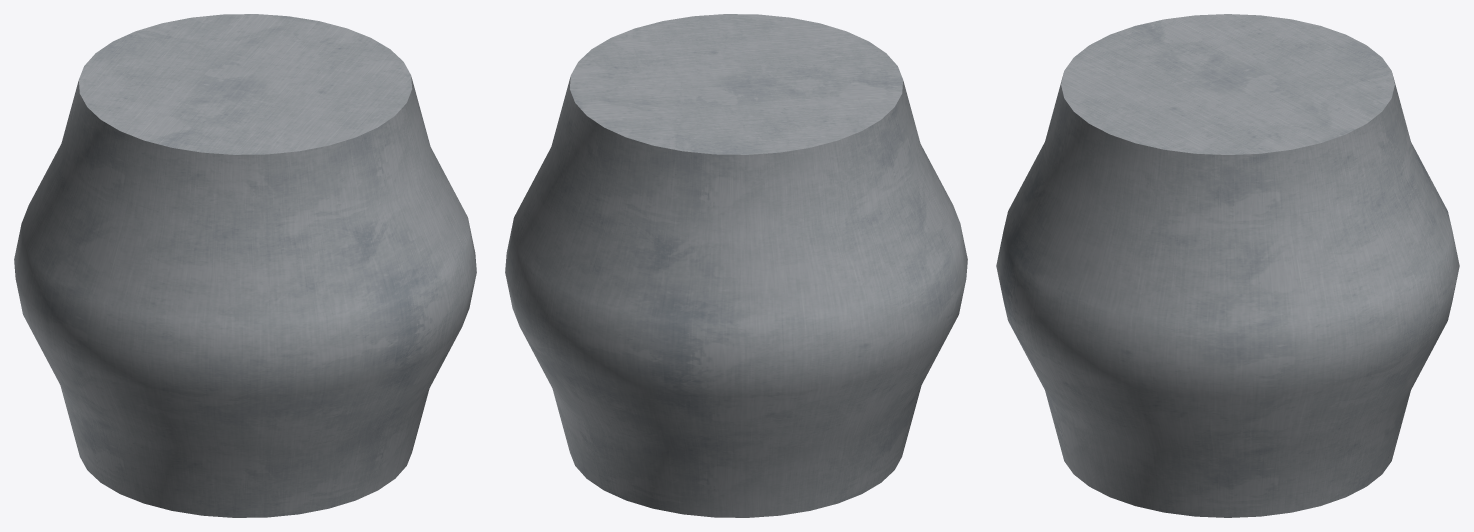
Rendered from spceimen.fbx.
The picture shows the model from 3 angles, left to right: view 1: azimuth 30°, elevation 25°; view 2: azimuth 150°, elevation 25°; view 3: azimuth 270°, elevation 25°; orthographic projection.
Parts seen in each view (by area): view 1: mild_steel; view 2: mild_steel; view 3: mild_steel.
Boxes of the visible parts, box(x1,y1,x2,y2) form: mild_steel: box(14, 14, 476, 517); mild_steel: box(505, 14, 967, 517); mild_steel: box(996, 14, 1459, 517).
Size of the model in its own units: 2.78 by 2.4 by 2.78.
